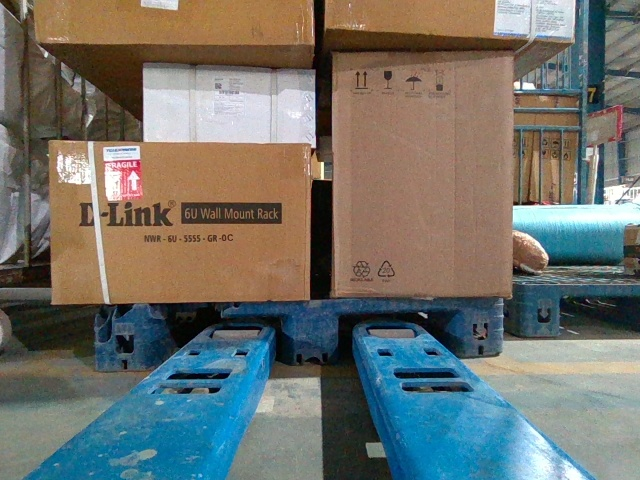block: (95, 305, 153, 373), (287, 301, 336, 366), (456, 297, 503, 356), (523, 283, 564, 337)
front: (96, 296, 502, 368)
hole pallet: (148, 309, 293, 371), (336, 307, 465, 364), (561, 292, 639, 334)
